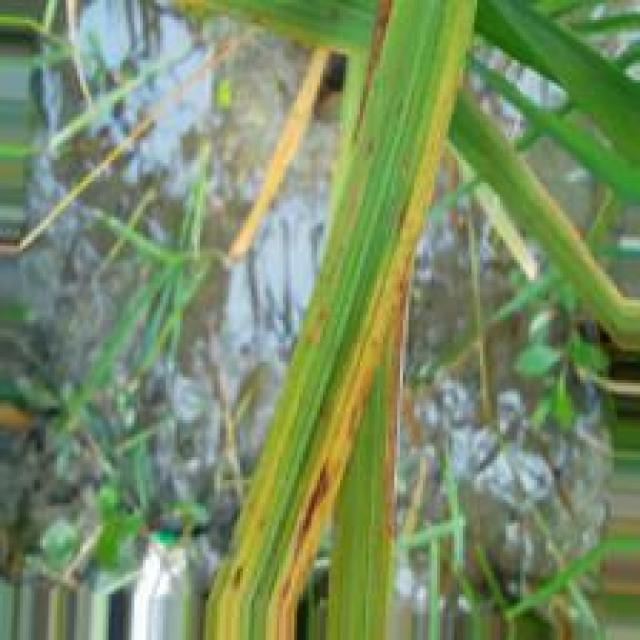Narrow_Brown_Leaf_Spot: (196, 0, 457, 638)
